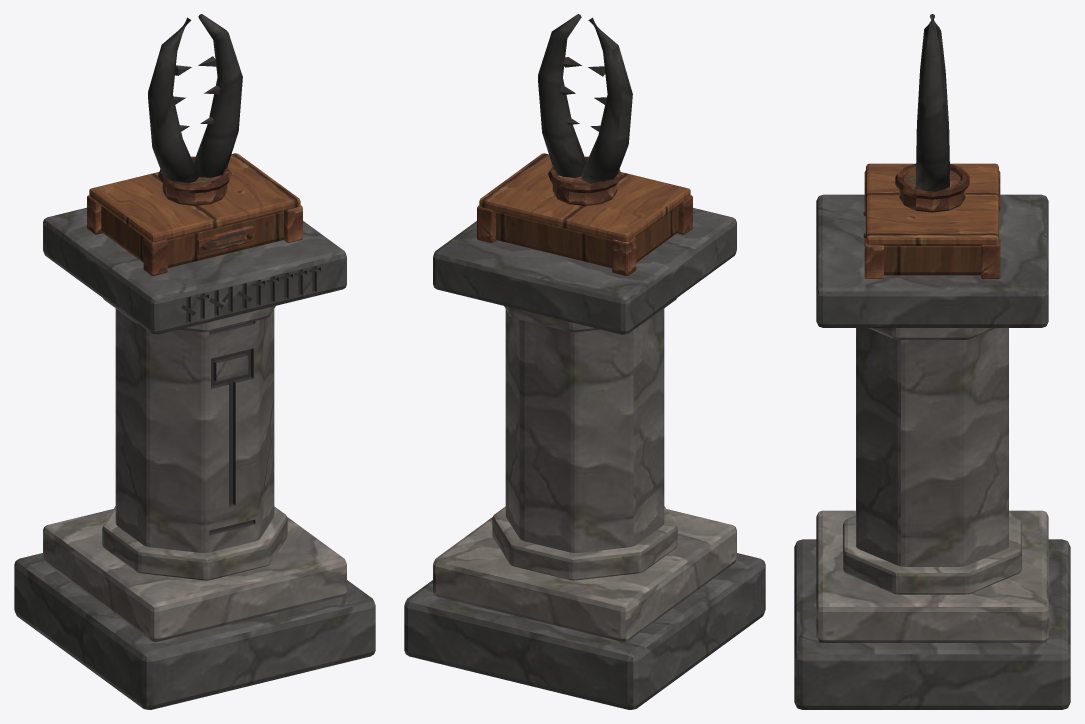
Rendered from hm_trophy_pedestal.glb.
3 views of the same model, side by side, from view 1: azimuth 30°, elevation 25°; view 2: azimuth 150°, elevation 25°; view 3: azimuth 270°, elevation 25° (orthographic). The views are drawn at different scales.
Parts seen in each view (by area): view 1: model; view 2: model; view 3: model.
Part boxes in pixels (left/top/right/bottom): model: left=14, top=14, right=375, bottom=709; model: left=404, top=14, right=765, bottom=709; model: left=794, top=14, right=1070, bottom=709.
Size of the model in its own units: 0.5 by 1.27 by 0.5.
Materials: 9 (8 with a texture image).
